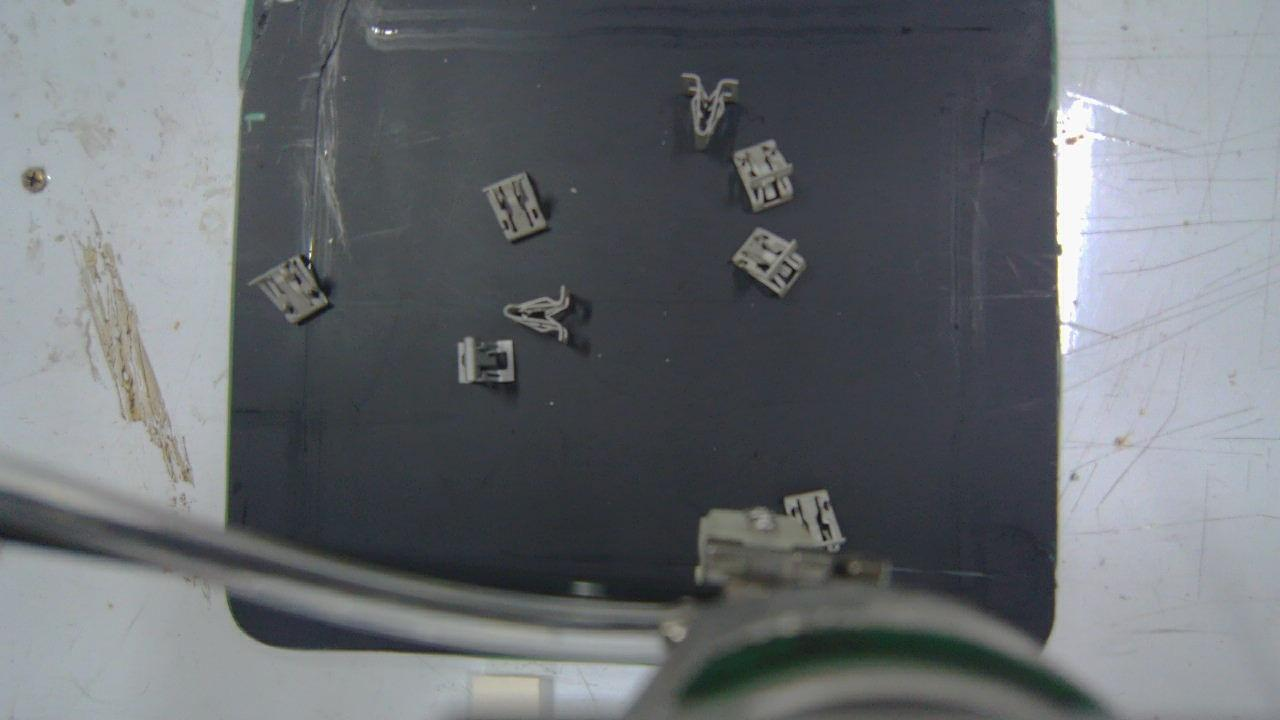ng: (249, 257, 330, 325), (729, 225, 806, 296), (484, 169, 548, 242), (730, 141, 793, 211), (504, 286, 572, 345), (683, 77, 738, 149), (784, 487, 844, 551), (455, 335, 517, 383)
